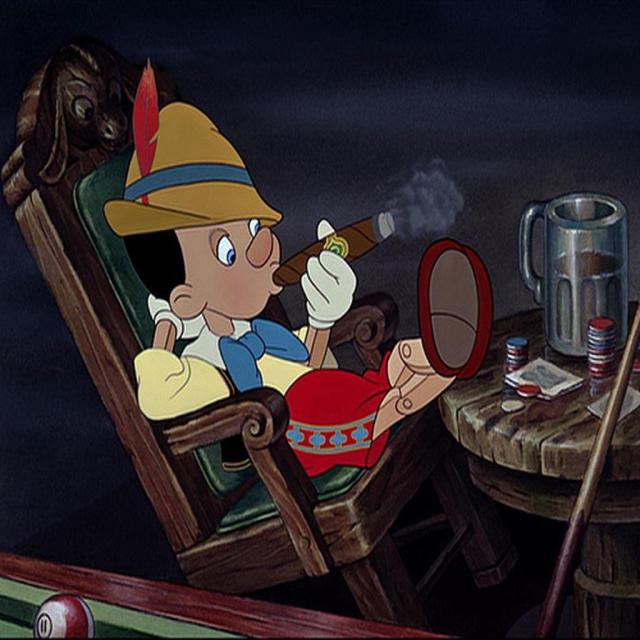smoking: (139, 157, 400, 331)
